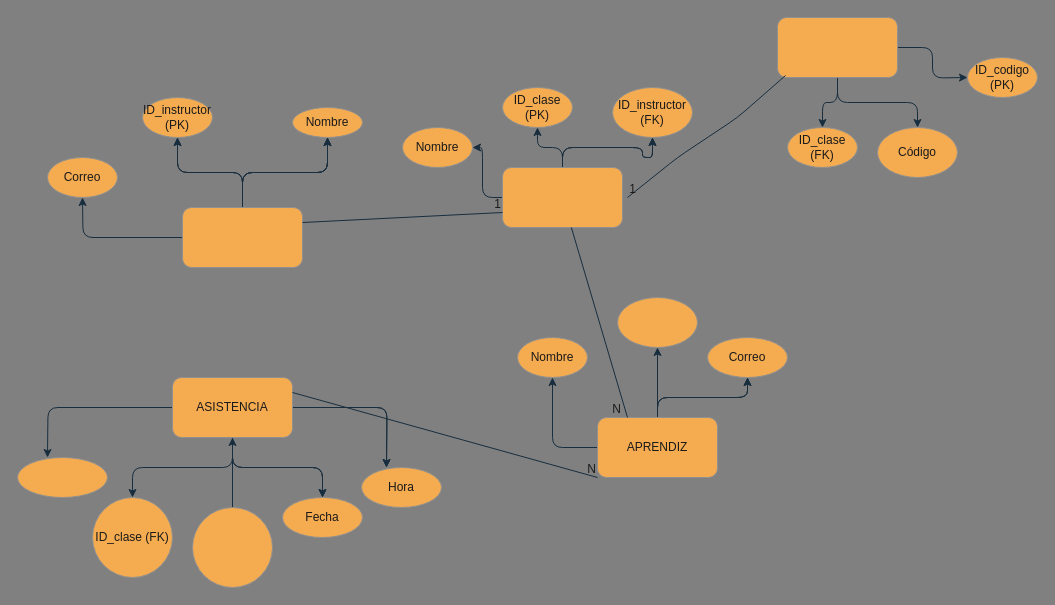
This 1055x605 diagram has some shape labels left out. The box of each missing label's shape, as (x1, y1, x2, y2) in pixels:
CLASE: (502, 166, 622, 228)
CÓDIGO QR: (776, 16, 898, 78)
ID_aprendiz (FK): (192, 506, 272, 588)
ID_aprendiz (PK): (616, 296, 698, 348)
ID_asistencia (PK): (16, 456, 108, 498)
INSTRUCTOR: (182, 206, 302, 268)
